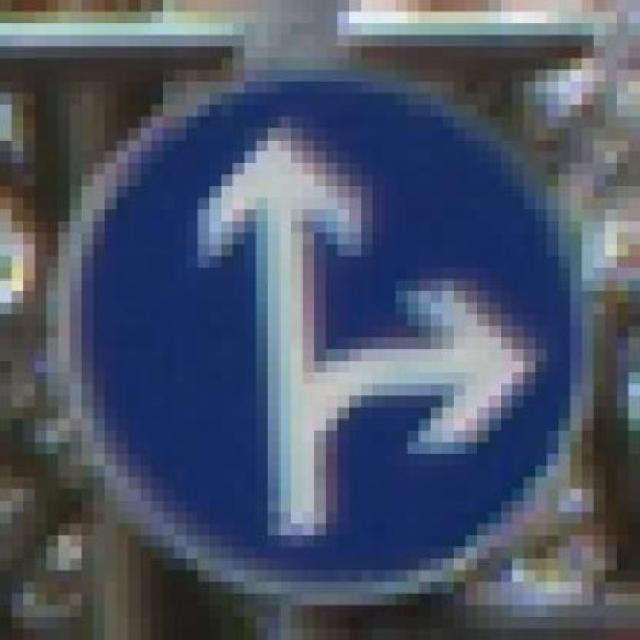Go Straight or Turn Right: (23, 58, 605, 605)
